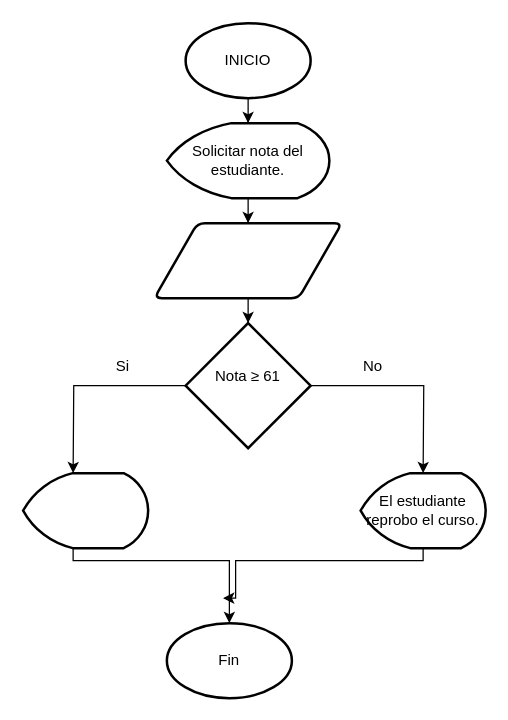
The diagram is 508 pixels wide and 720 high, and some of its shapes have lost their labels. The shapes that lost their labels are listed below. From the top down, each one's centre as x and y in pixels, then its label:
At (247,260): "Ingresar nota del estudiante".
At (85,510): "El estudiante aprobó el curso.".
